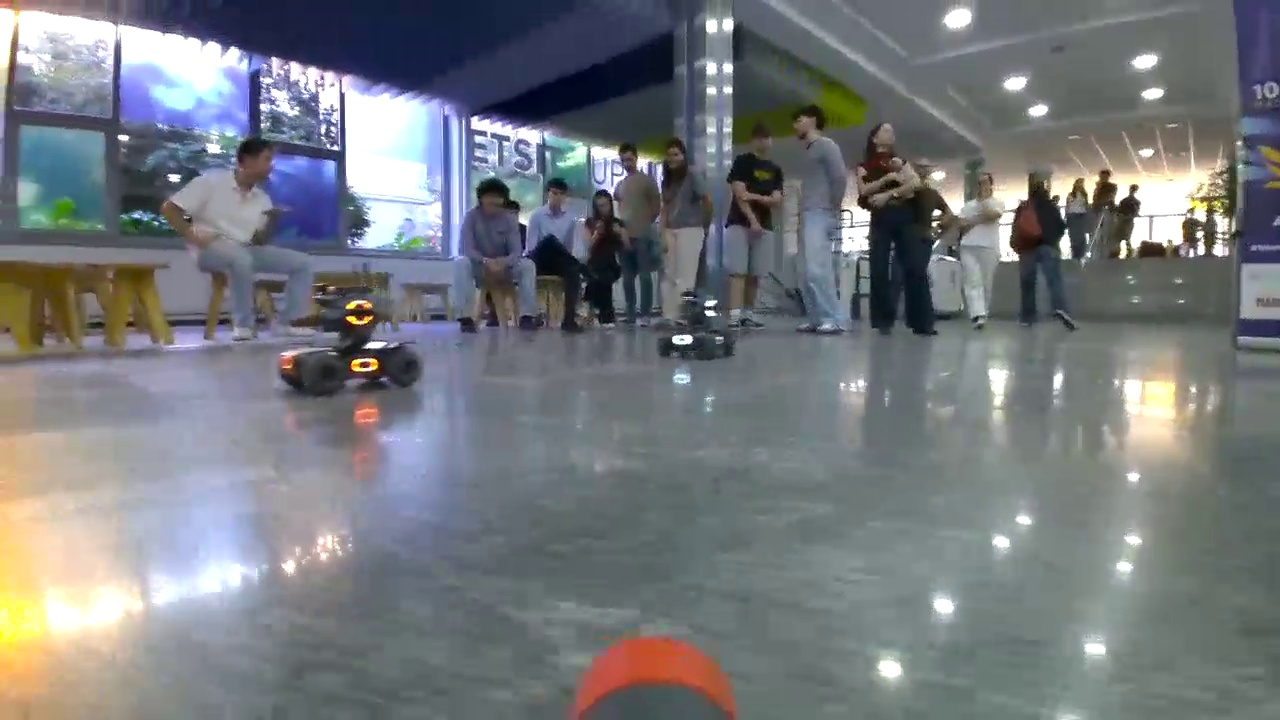robot: (278, 297, 420, 397), (655, 300, 738, 357)
